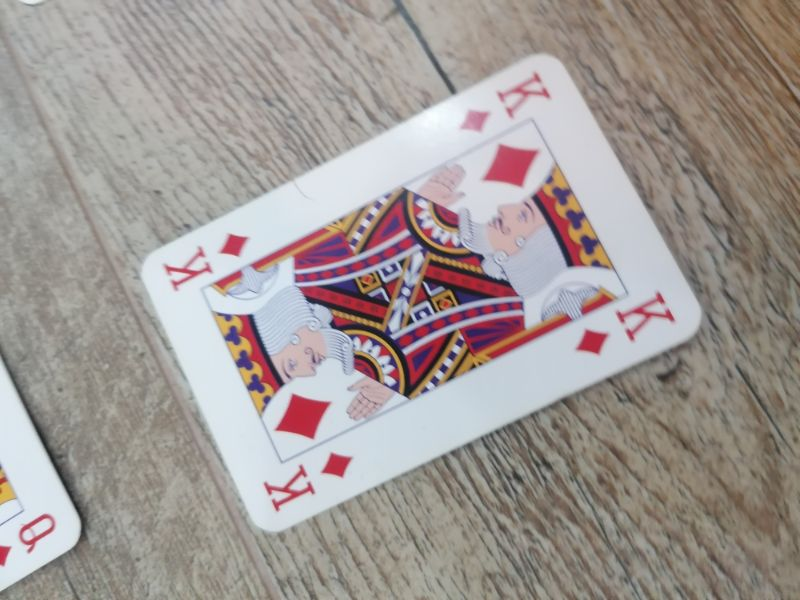Kd: (573, 287, 680, 363), (458, 70, 556, 145), (161, 229, 258, 295), (259, 449, 356, 514)
